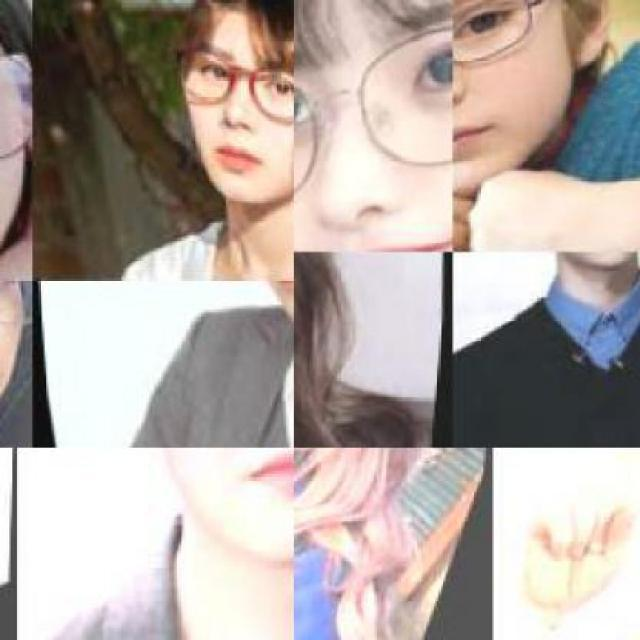mask: (294, 27, 454, 193), (164, 44, 296, 136), (452, 0, 555, 62)
